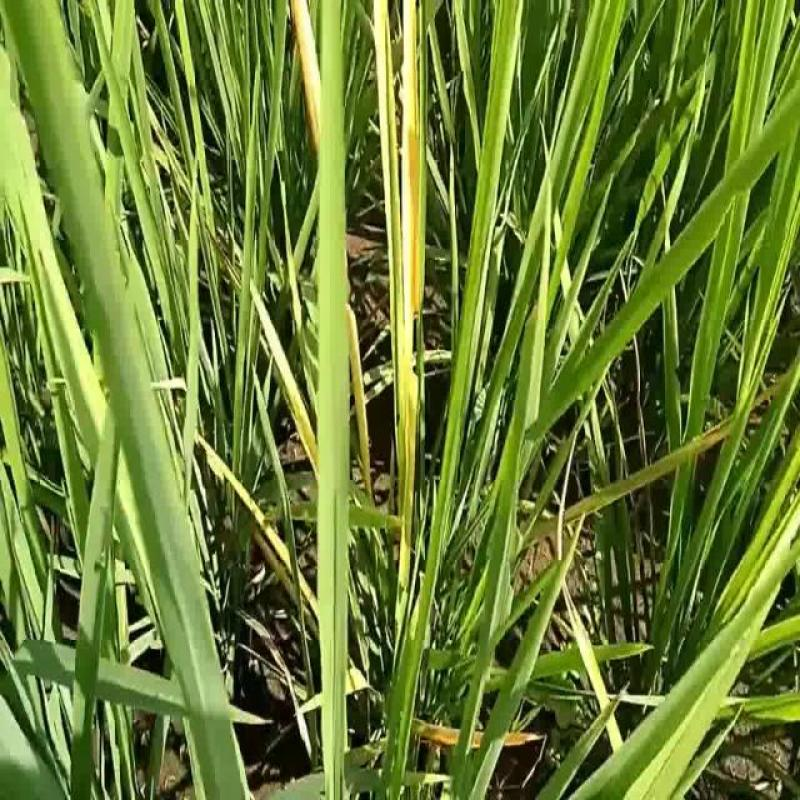Rice Tungro: (399, 1, 429, 469), (371, 4, 401, 346), (288, 4, 328, 156)
